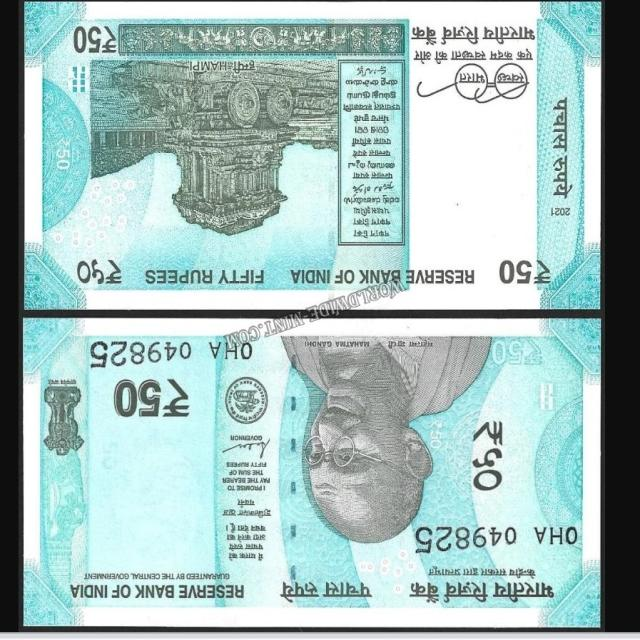50IndianRupees: (28, 0, 598, 311)
